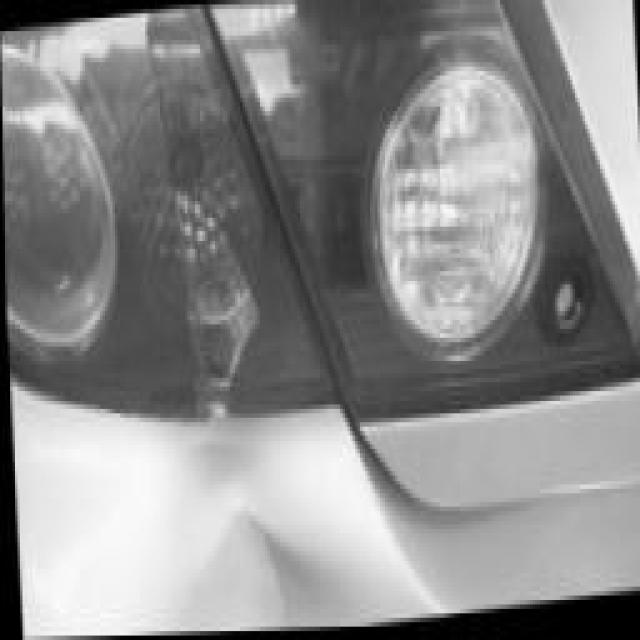Bumper: (190, 449, 368, 637)
